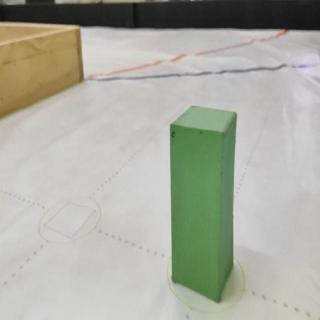greenbox: (168, 103, 237, 304)
